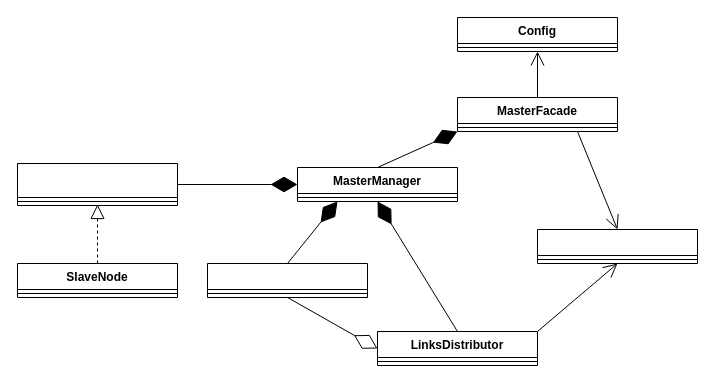
Some shapes in this 715 by 392 pixel diagram are drawn without their labels. The centre of each missing label's shape, as x and y in pixels:
CrawlerDataConnector: (617,246)
SlavesStateStorage: (287,280)
«interface» ISlaveNode: (97,184)
